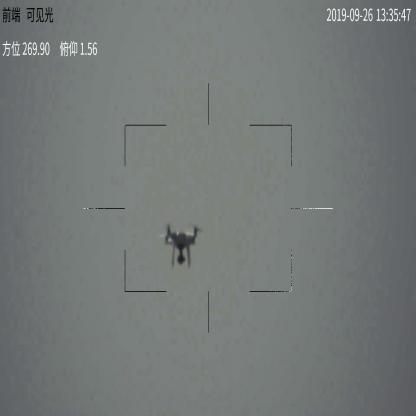uav: (159, 226, 205, 267)
